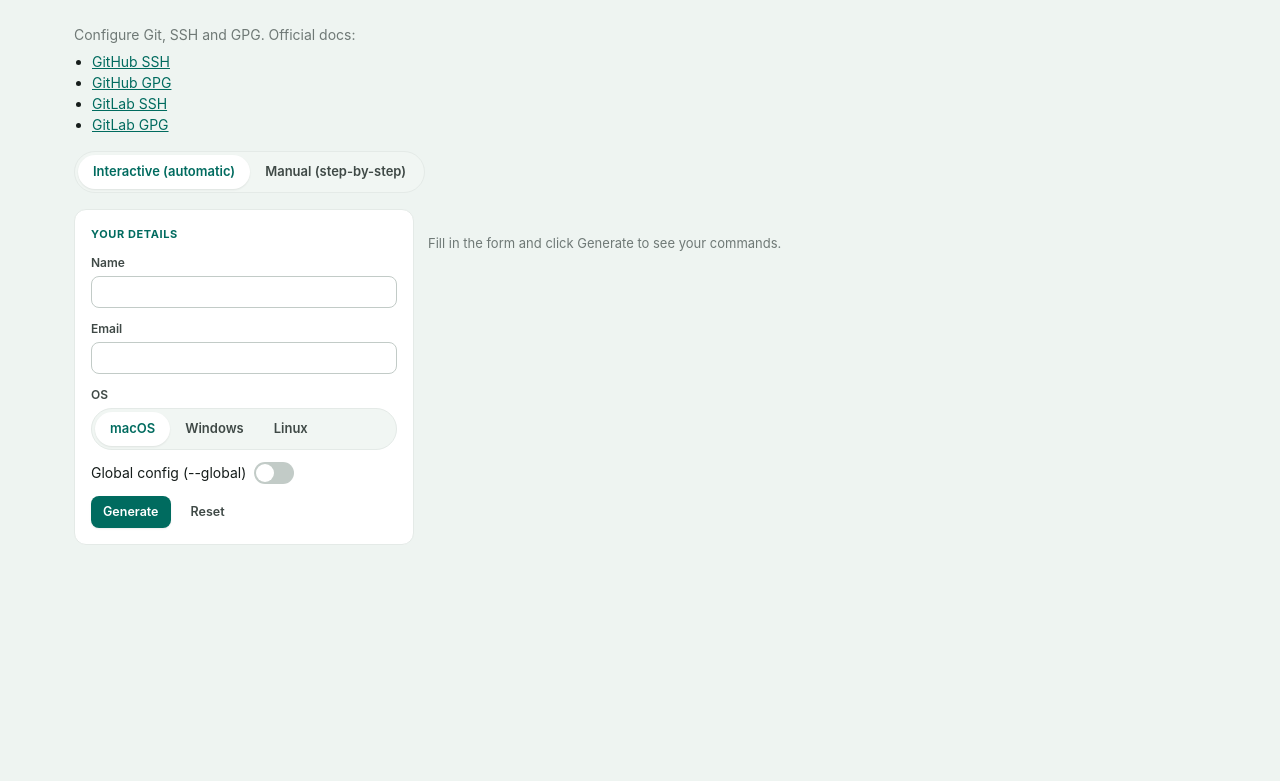
Scenario: Git Cheat Sheet page › switching to Manual mode shows Install Git heading
Click the button "Manual (step-by-step)".
click(336, 172)  # box [250,155,421,188]
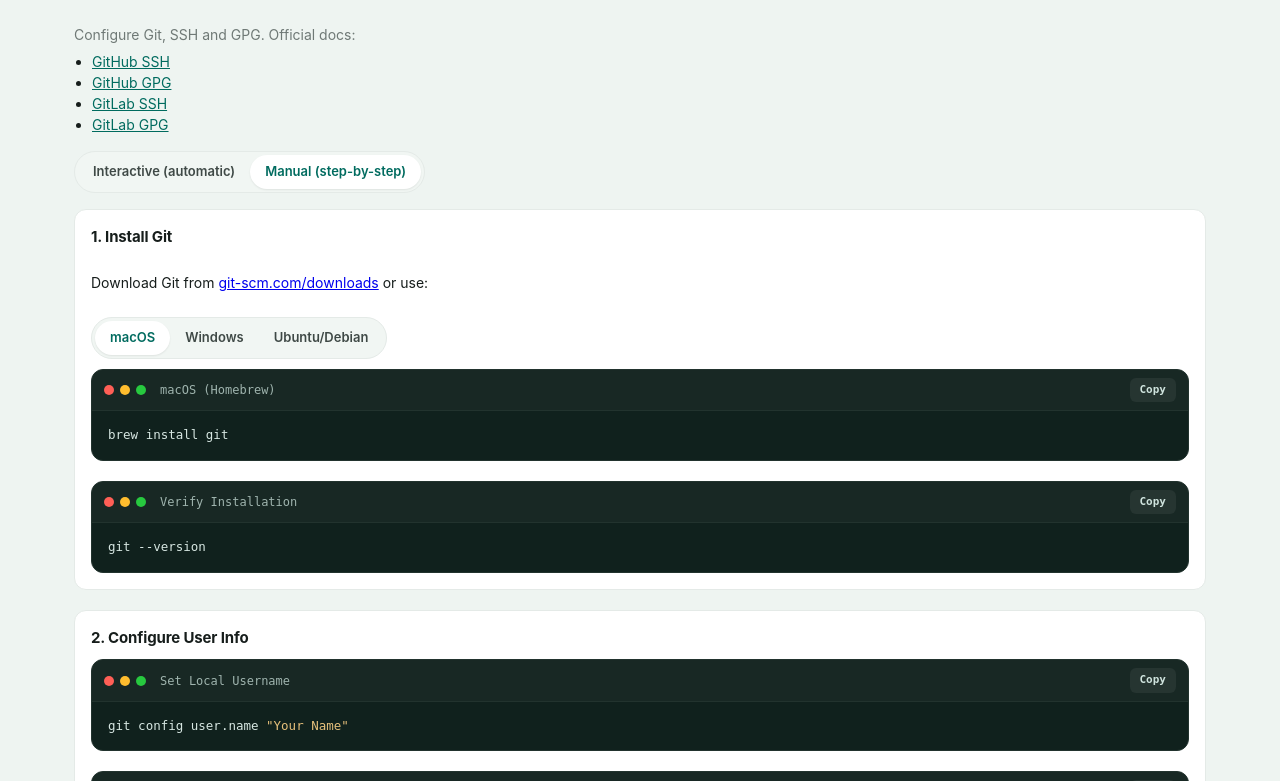
Expected: the heading "1. Install Git" is shown, [91,226,172,246]
